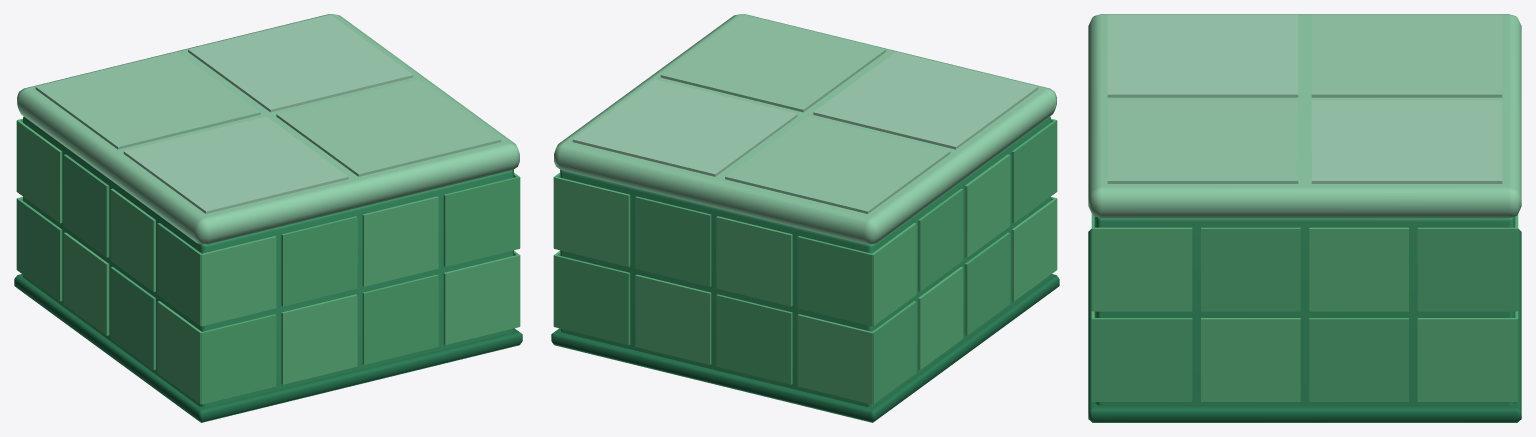
Rendered from mint-block.glb.
3 renders of one model, left to right at view 1: azimuth 30°, elevation 25°; view 2: azimuth 150°, elevation 25°; view 3: azimuth 270°, elevation 25°, orthographic. The views are drawn at different scales.
Parts seen in each view (by area): view 1: mint-block; view 2: mint-block; view 3: mint-block.
Boxes of the visible parts, x1,y1,x2,y2 form: mint-block: [14, 14, 522, 422]; mint-block: [551, 14, 1059, 422]; mint-block: [1088, 14, 1521, 422].
Bounding box in the file's own units: 2 × 1.2 × 2.
